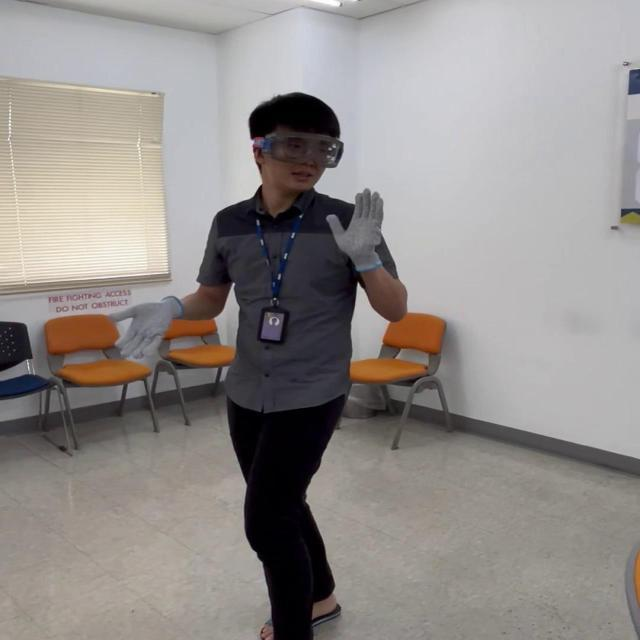gloved_hand: (114, 290, 181, 364), (321, 188, 380, 272)
